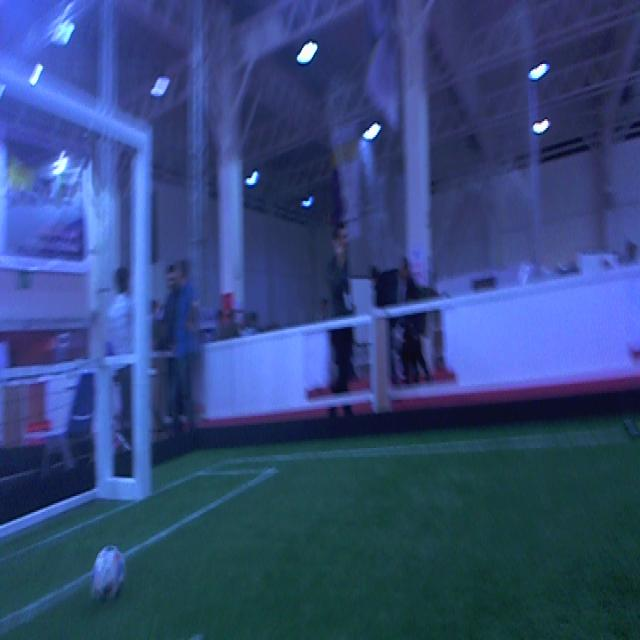ball: (92, 546, 124, 602)
goalpost: (129, 124, 152, 500)
